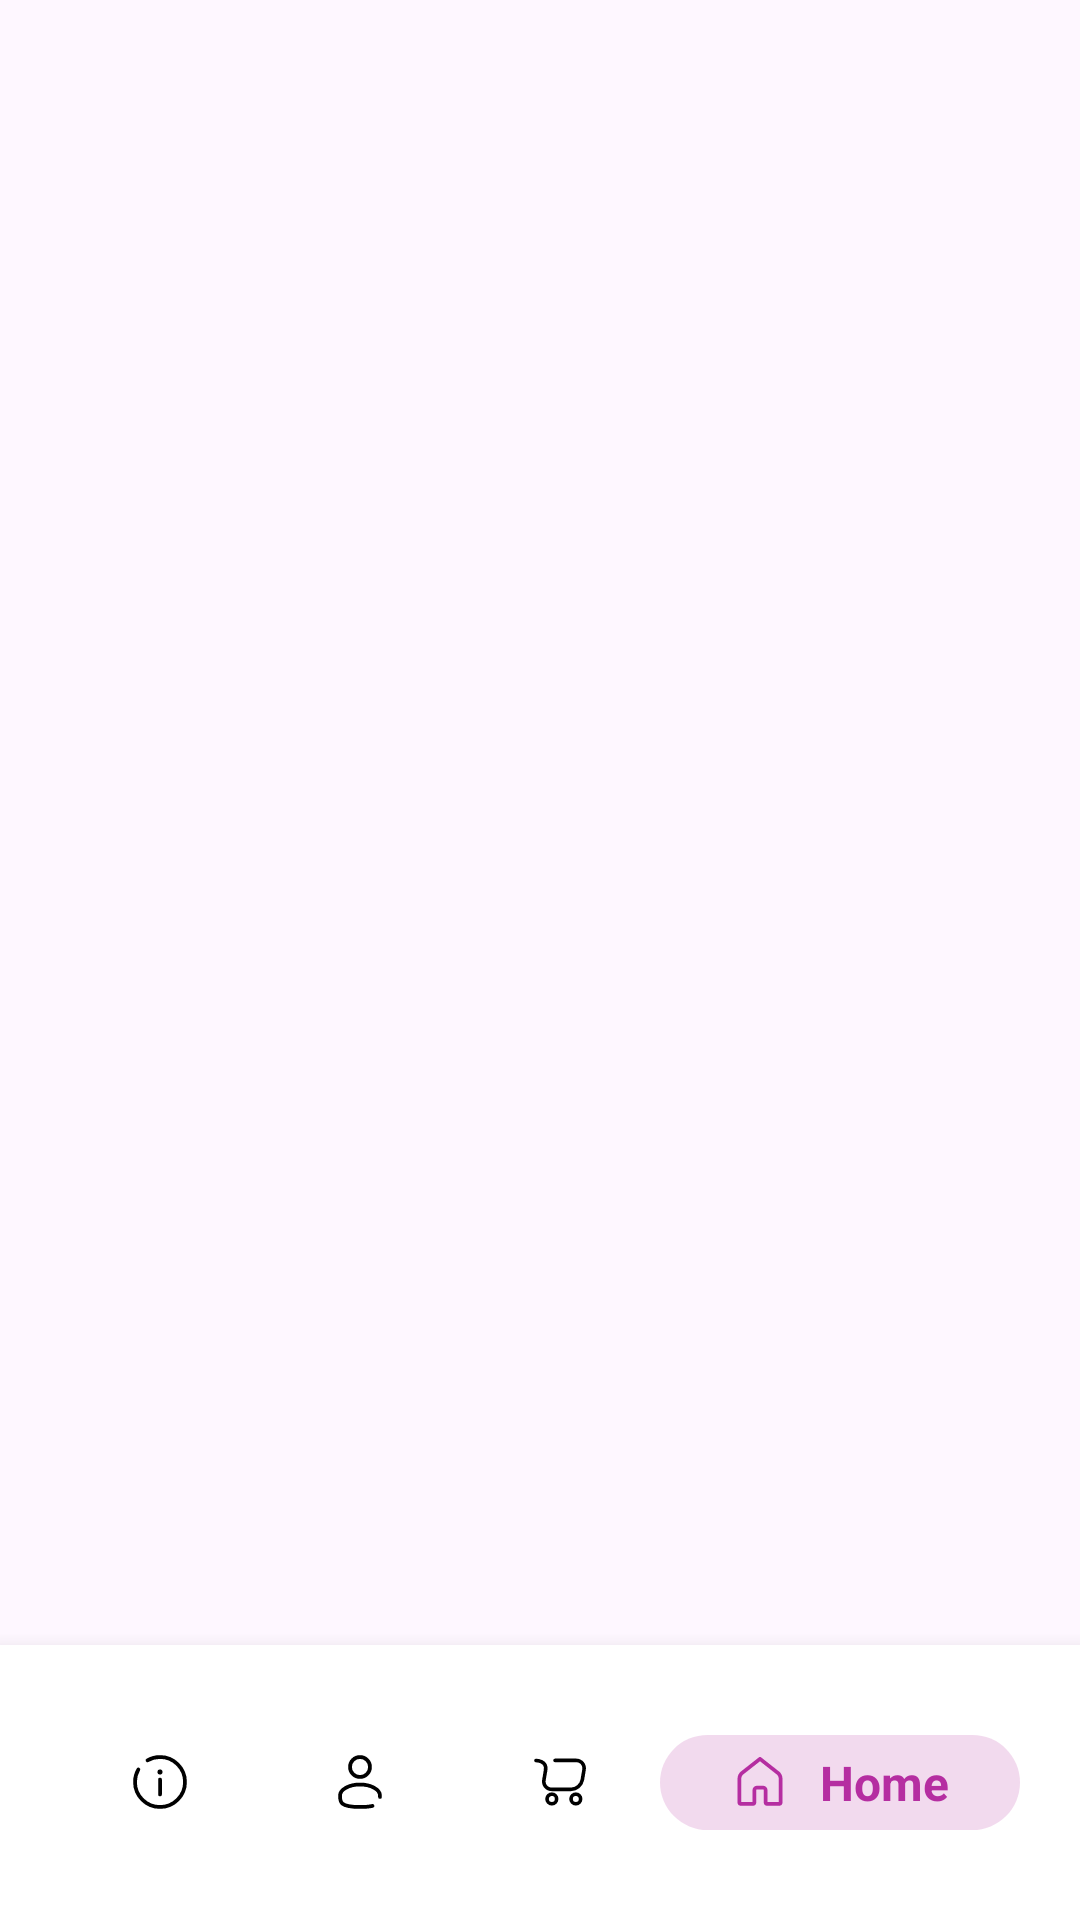

Named icons in this screenshot (1080w x 1920h) and their centers, [x,y]:
cartisvg: [560,1782]
infoisvg: [160,1782]
userisvg: [360,1782]
